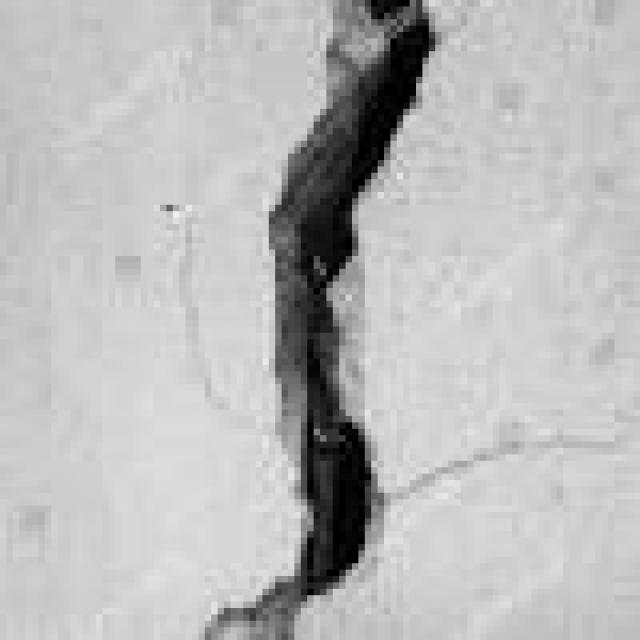Crack: (205, 0, 429, 627)
